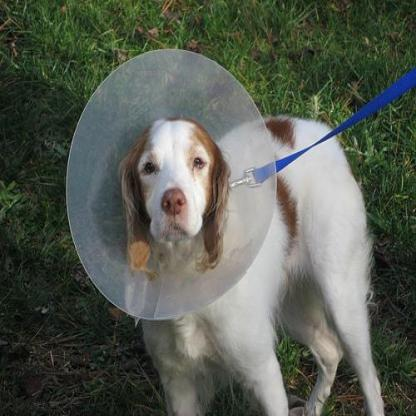Brittany_spaniel: (116, 112, 385, 414)
